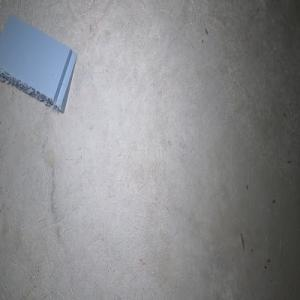PlasticPart: (0, 13, 77, 113)
